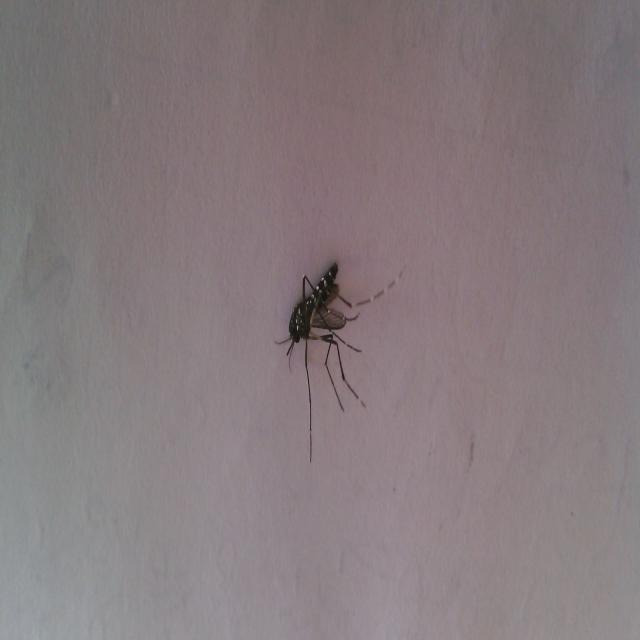albopictus: (270, 238, 402, 460)
